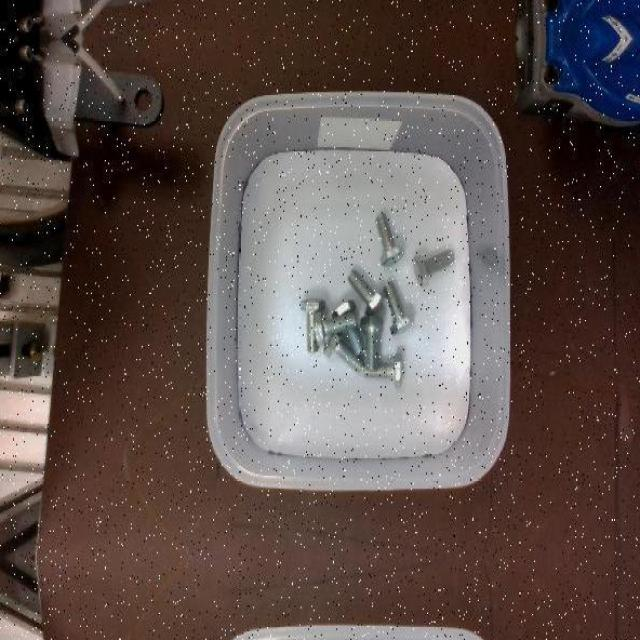screw: (375, 280, 414, 335), (342, 268, 384, 314), (375, 213, 404, 266), (413, 250, 454, 287), (314, 310, 356, 346), (360, 314, 383, 369)
